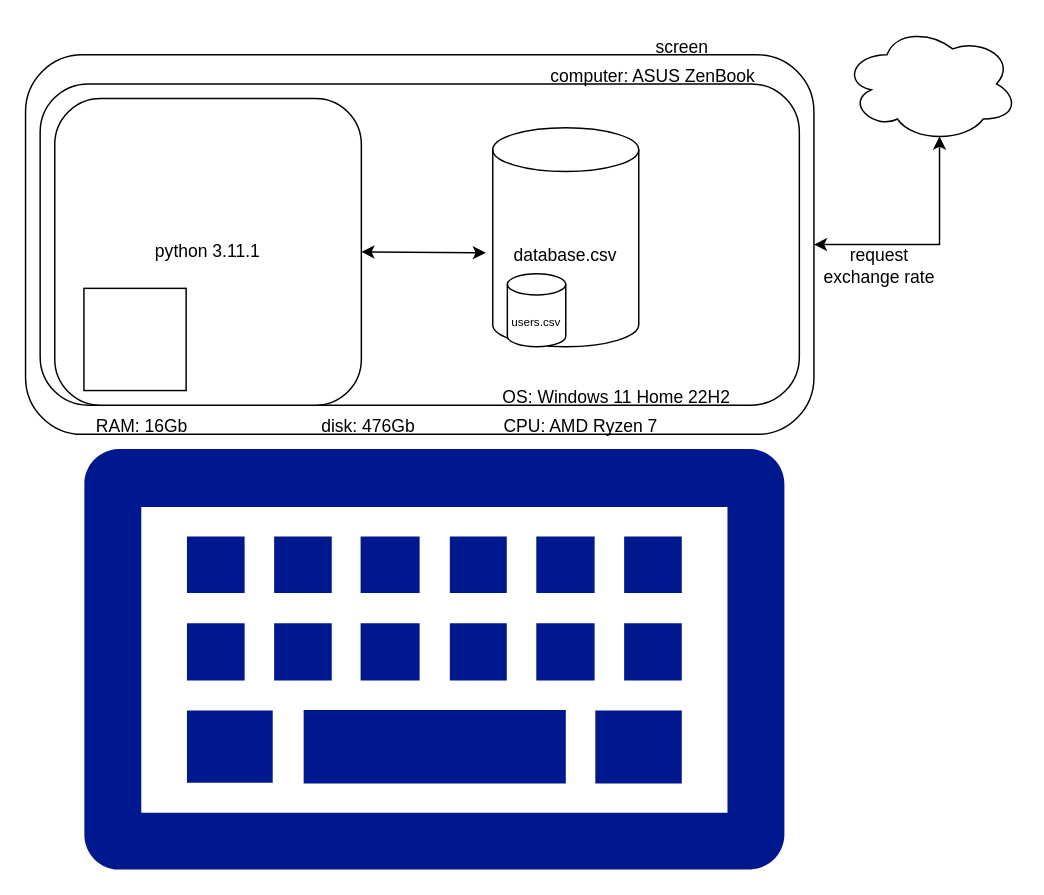
Some shapes in this 1044 by 895 pixel diagram are drawn without their labels. Here are the shapes that lost their labels. From the top down, the centre of each, then its label:
the point at 930,83: internet
the point at 134,339: project1.py
